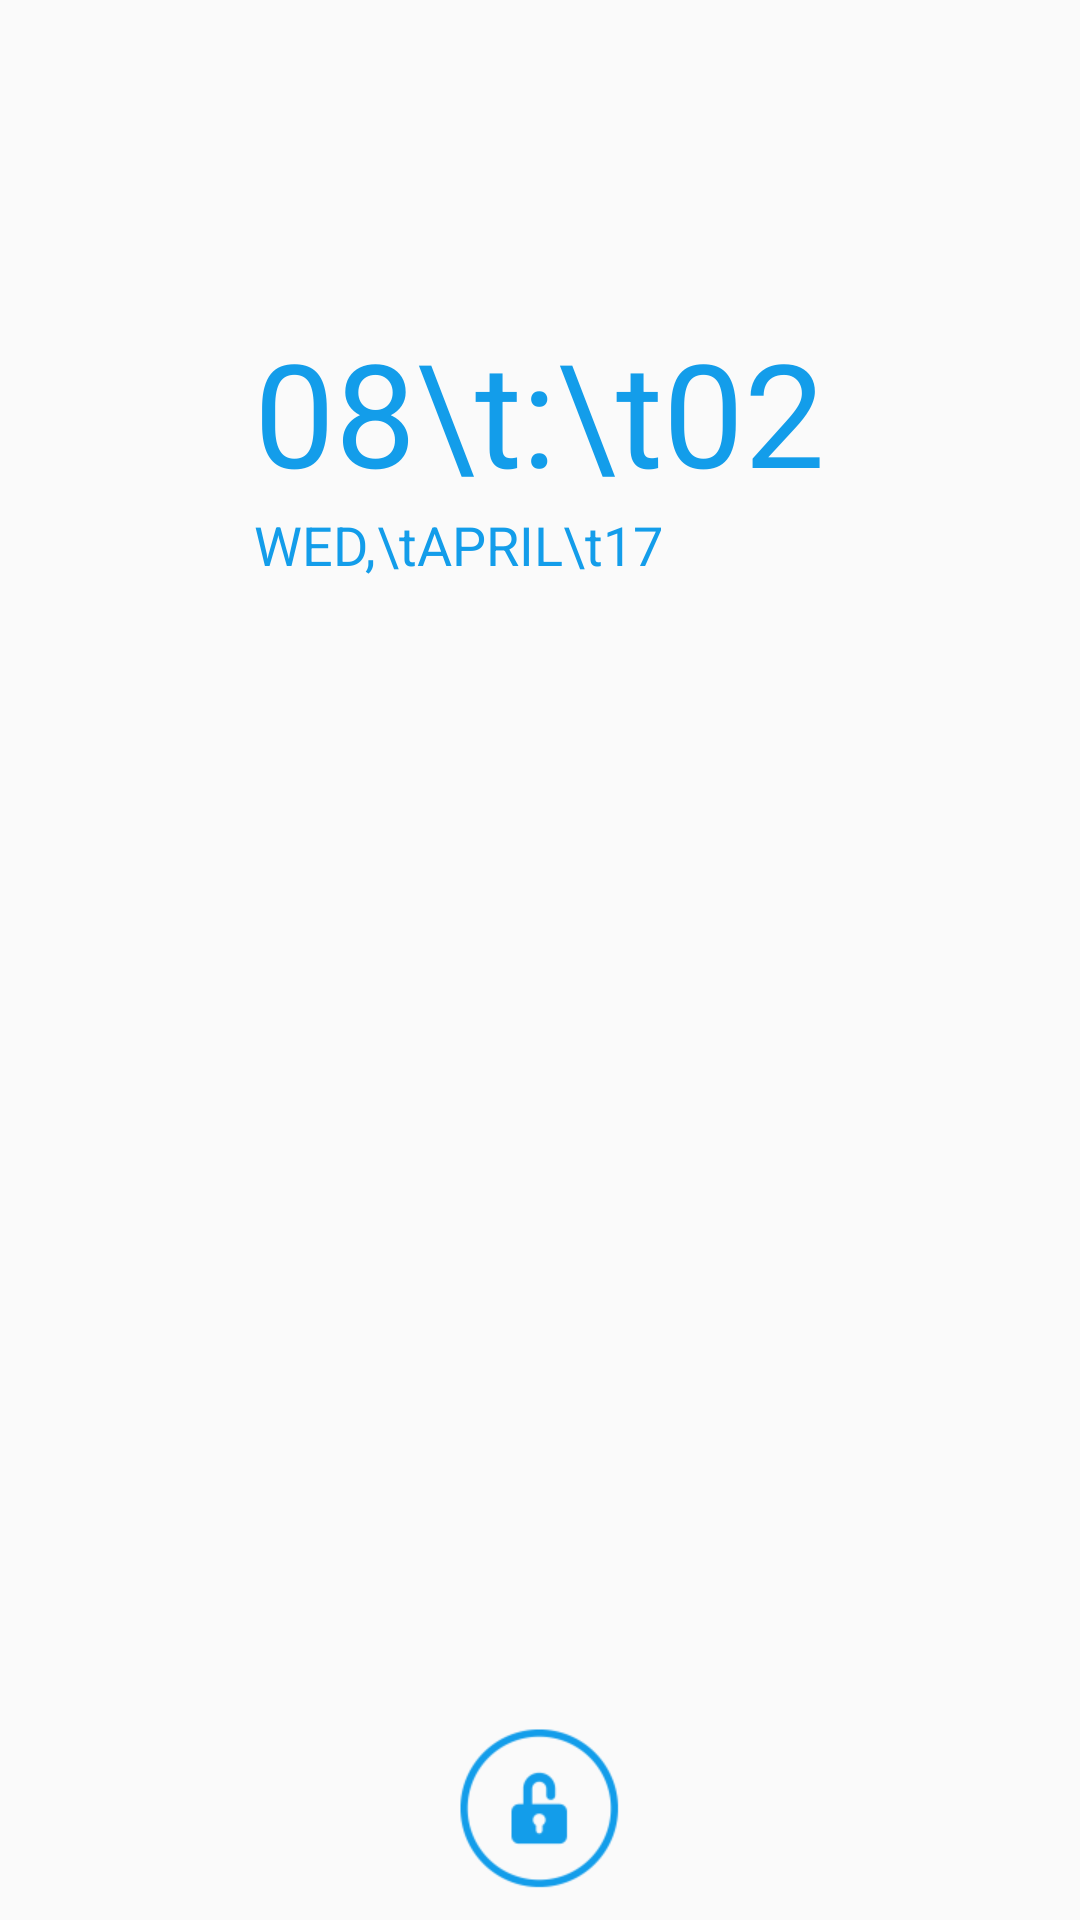

Icon bounding boxes for this 1080*1920 phone screenshot, format box(x1, y1, x2, y2):
open lock: box(460, 1729, 619, 1888)
